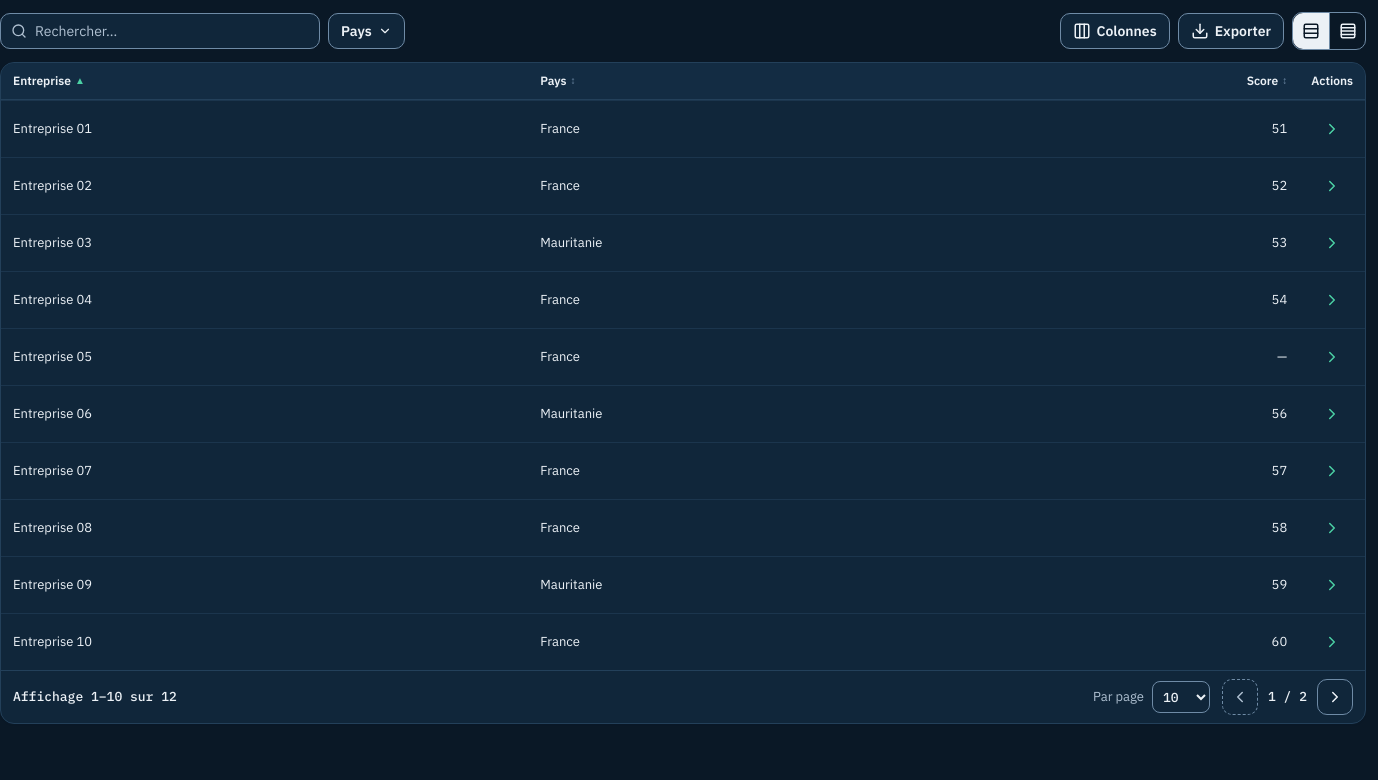
Test: DataTable › trie par colonne, valeurs absentes en dernier, et annonce le sens
Click the button "Score ↕" at x=1267, y=81, box [1247,63,1287,99]
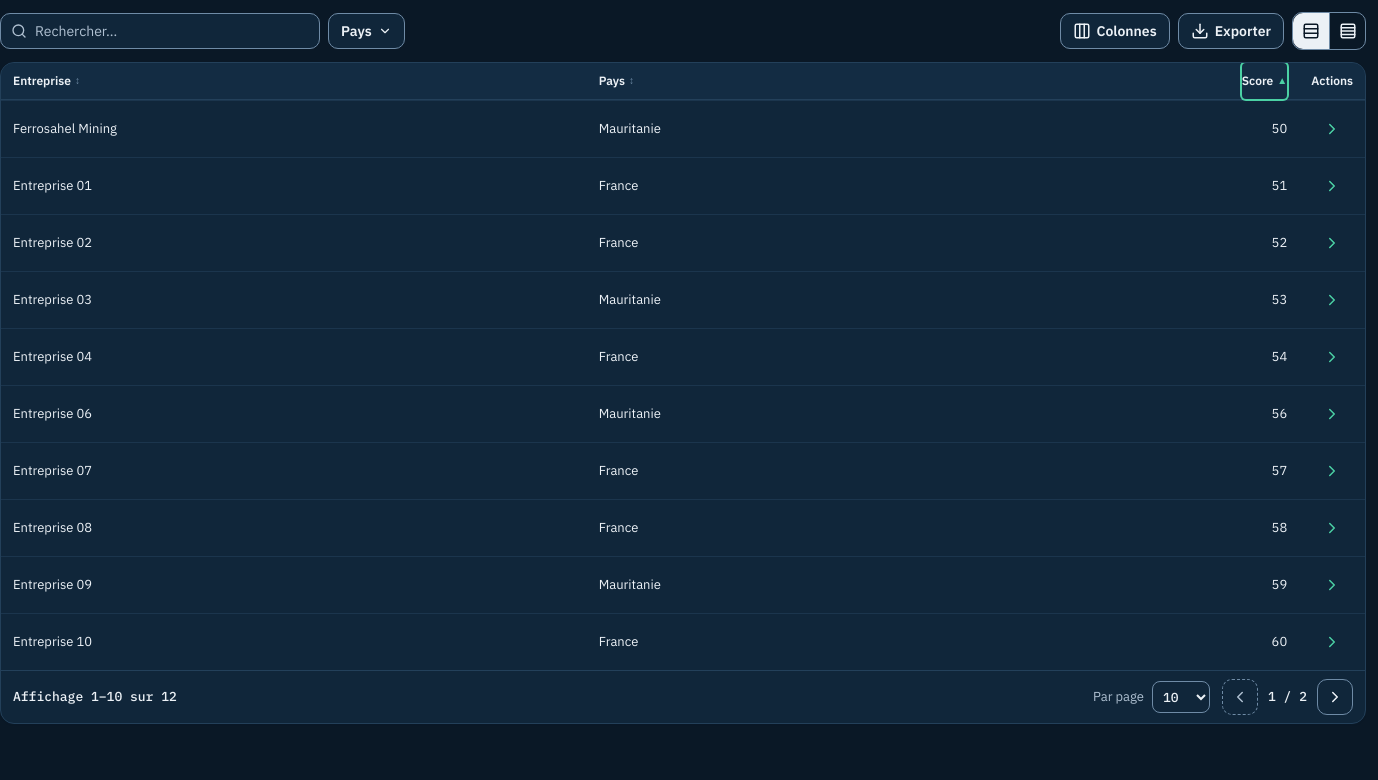
Click the button "Score ▲" at x=1264, y=81, box [1242,63,1287,99]
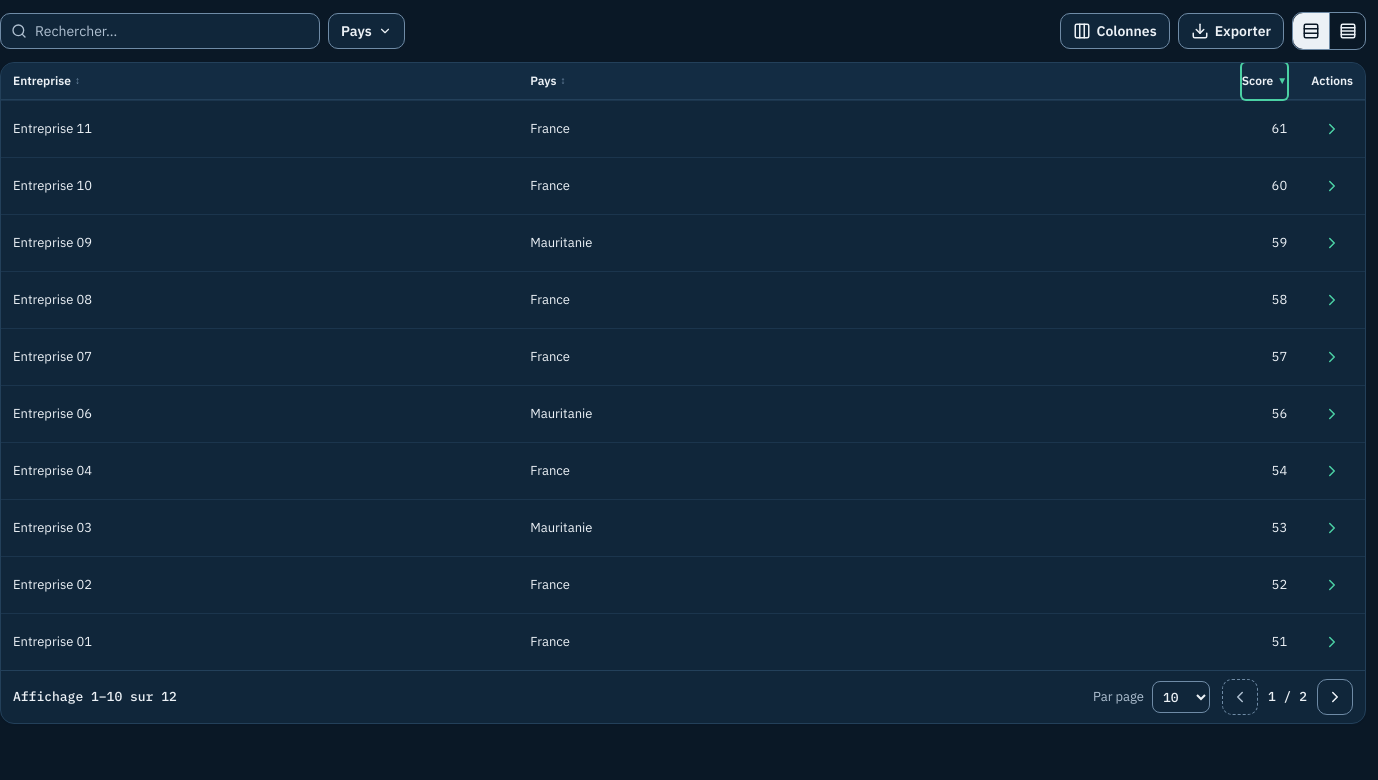
Check: the row "Entreprise 11 France 61" is shown, box [1,100,1365,158]
